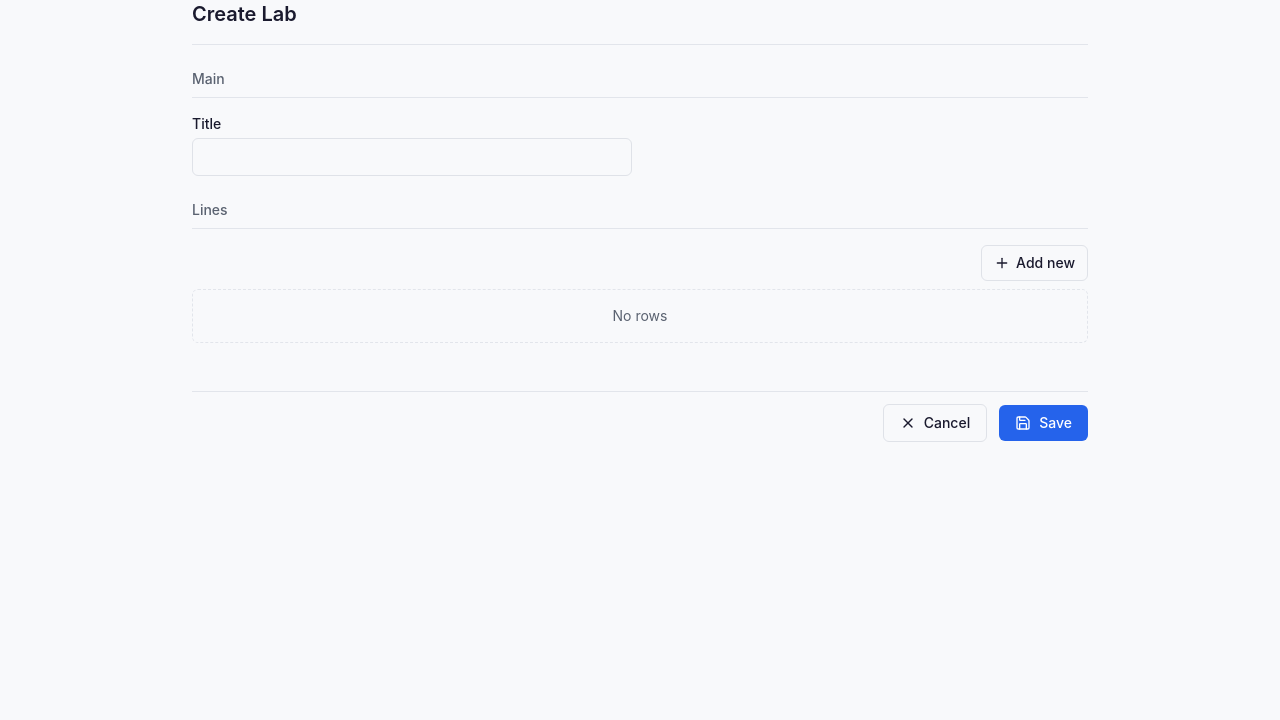
Scenario: child record lists that manage an association › cancel in the child dialog keeps the rows and posts nothing
Expected: the text "No rows" is shown, x1=192 y1=289 x2=1088 y2=343
Click the button "Add new" at [1035, 263], box x1=981 y1=245 x2=1088 y2=281
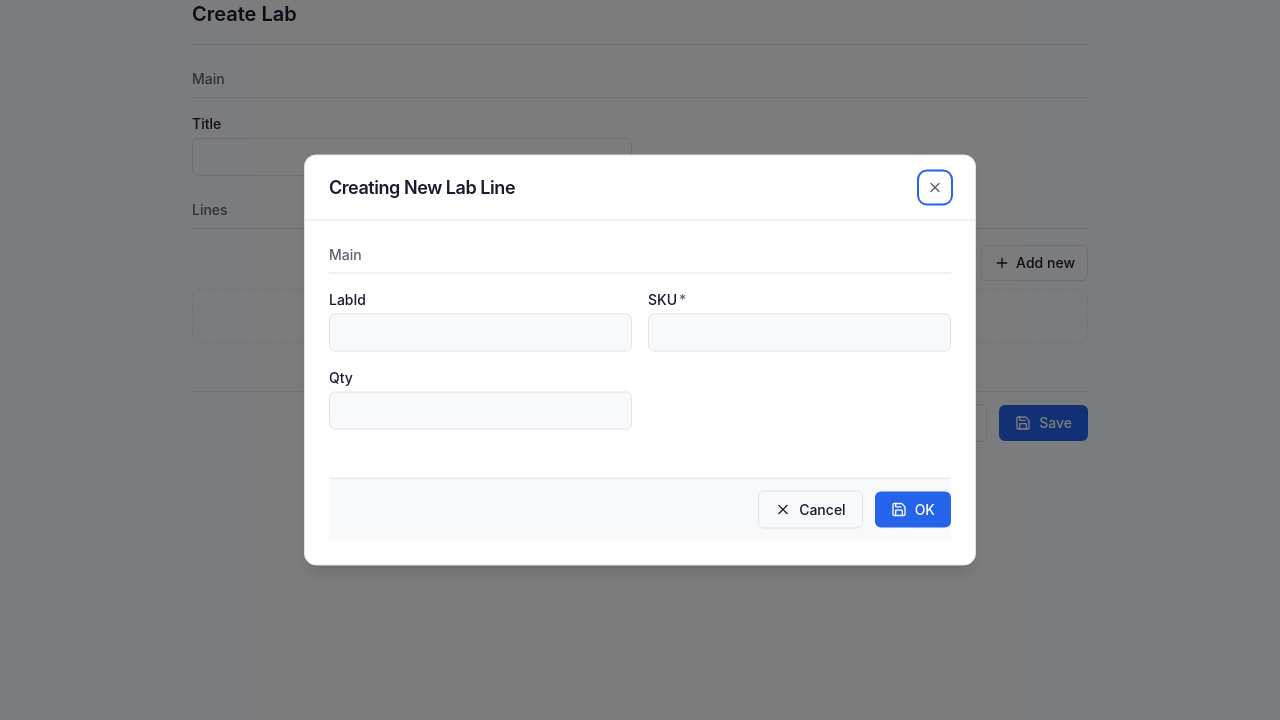
Type "X" into the field labelled "SKU*" at [800, 332], box x1=648 y1=314 x2=951 y2=352
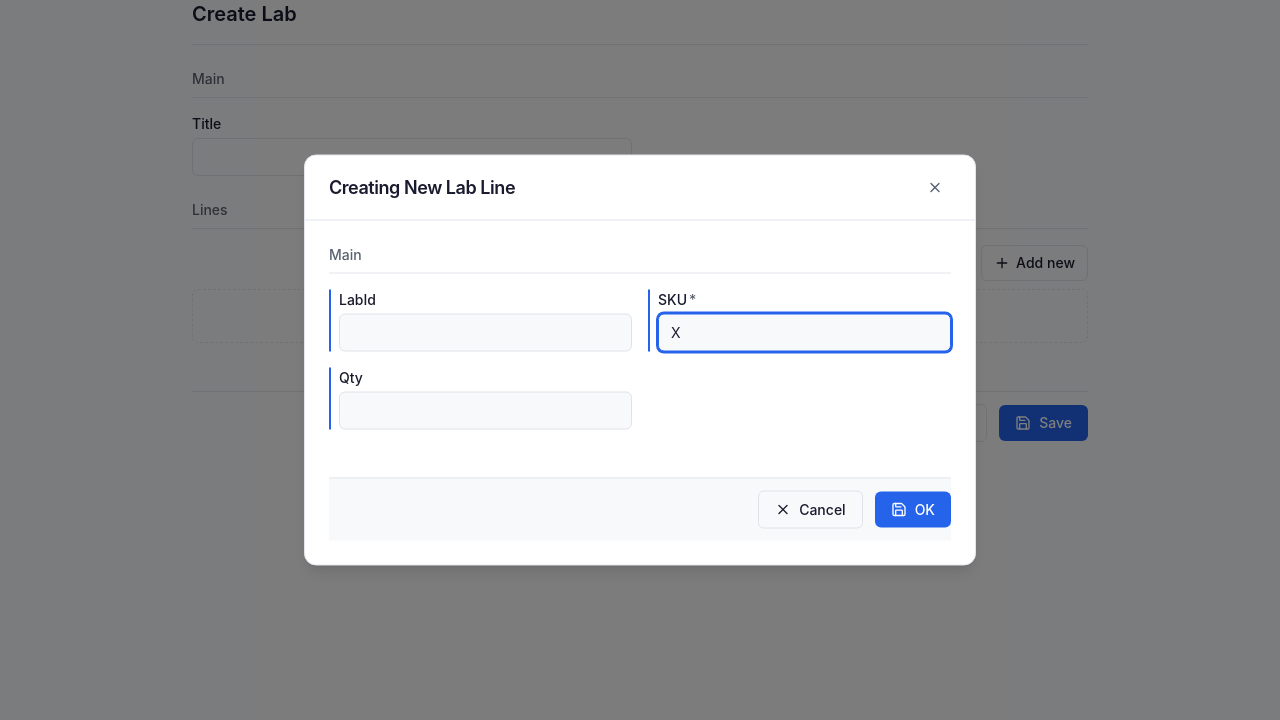
Click the button "Cancel" at [810, 510], box x1=758 y1=490 x2=863 y2=528
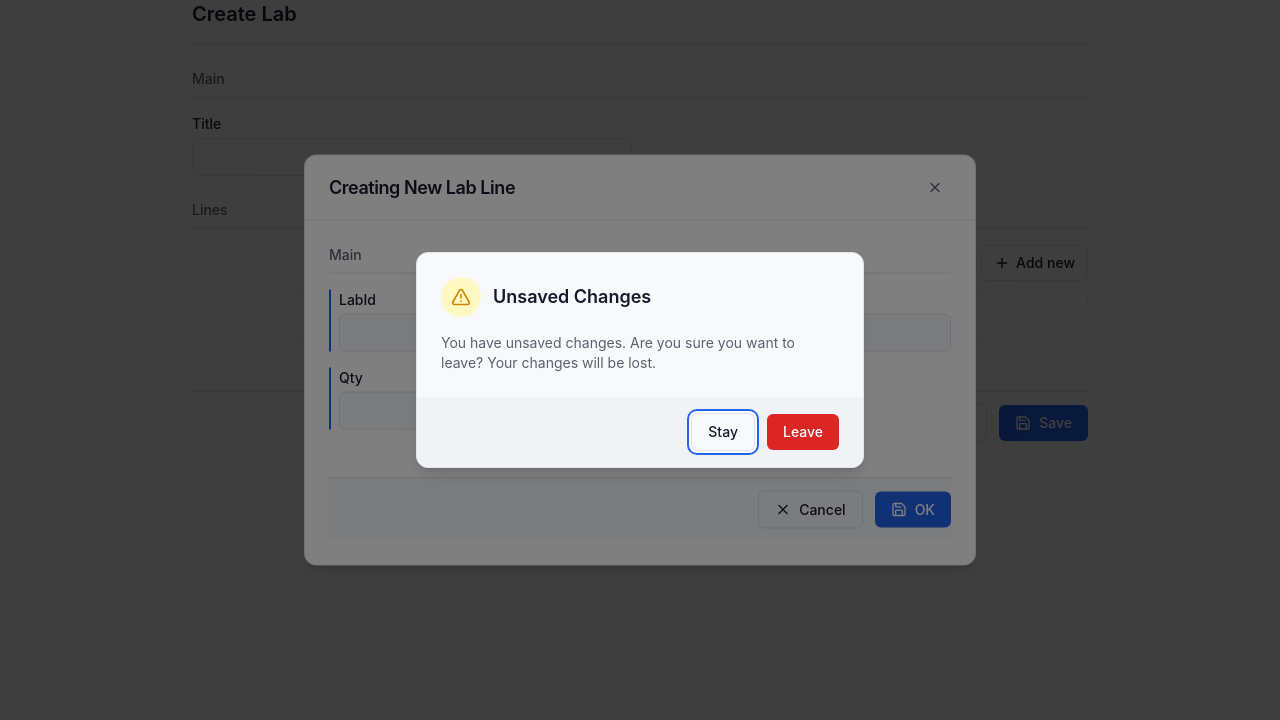
Note: the child form asks before discarding its typed value
Click the button "Leave" at [803, 432], box x1=767 y1=414 x2=839 y2=450
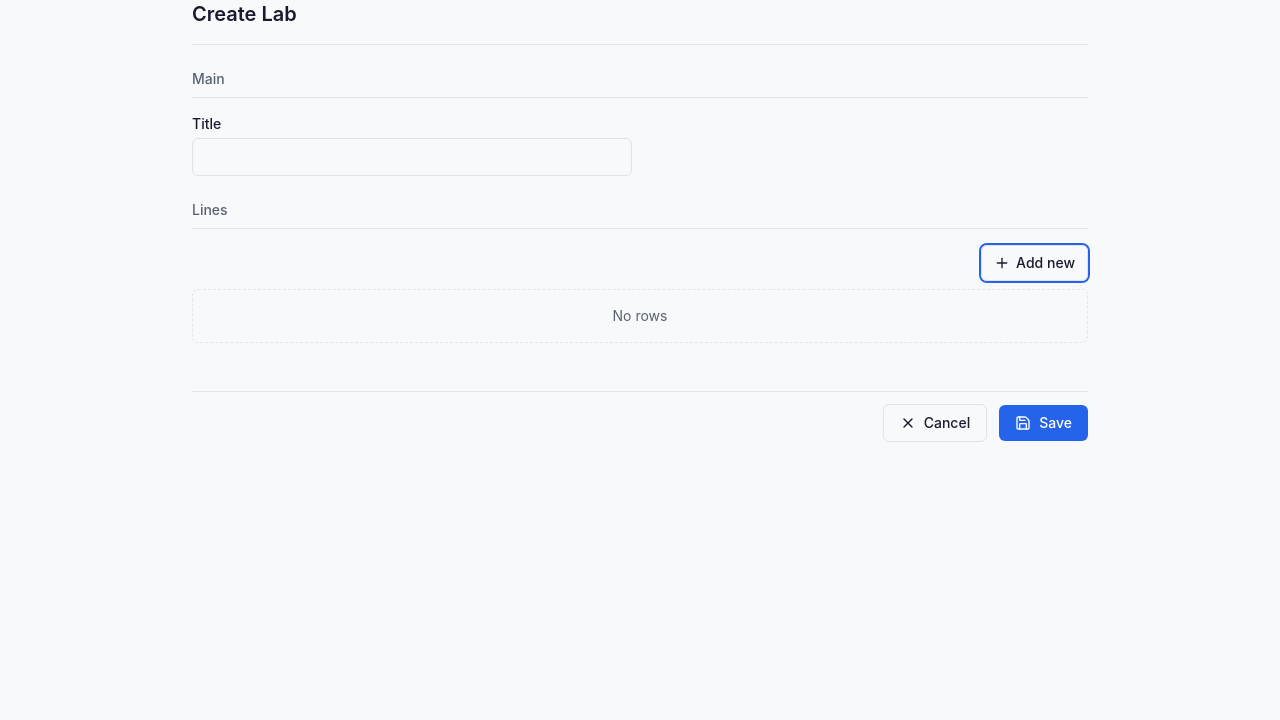
Expected: the text "No rows" is shown, x1=192 y1=289 x2=1088 y2=343
Expected: the heading "Creating New Lab Line" is gone
